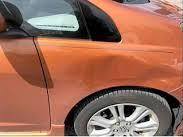dent: (75, 49, 183, 89)
